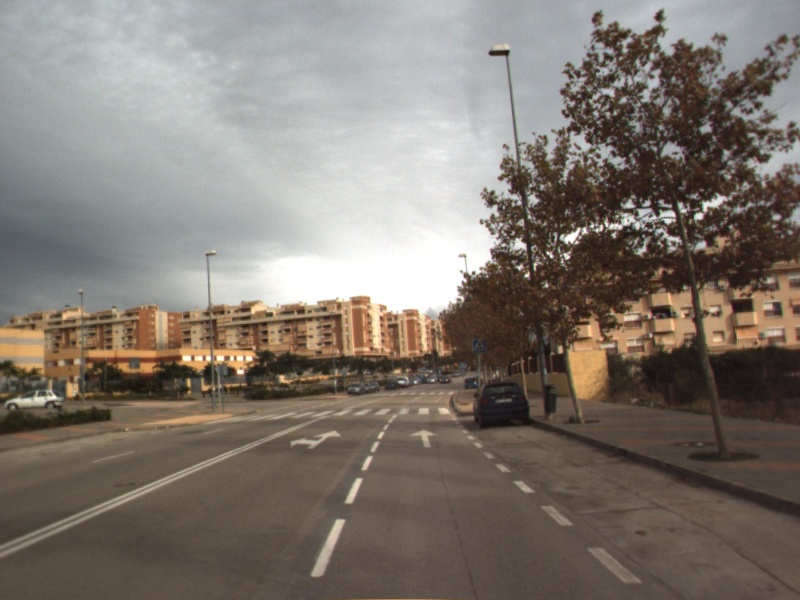STRAIGHT: (409, 427, 440, 450)
STRAIGHT_LEFT: (288, 428, 343, 451)
